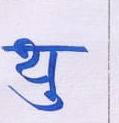u_matra: (9, 82, 67, 111)
